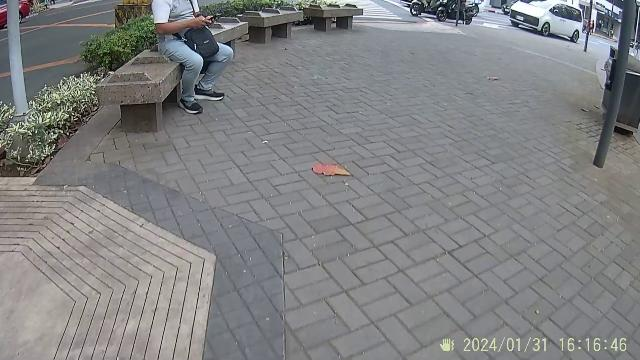bench: (101, 53, 183, 134), (237, 4, 365, 34)
